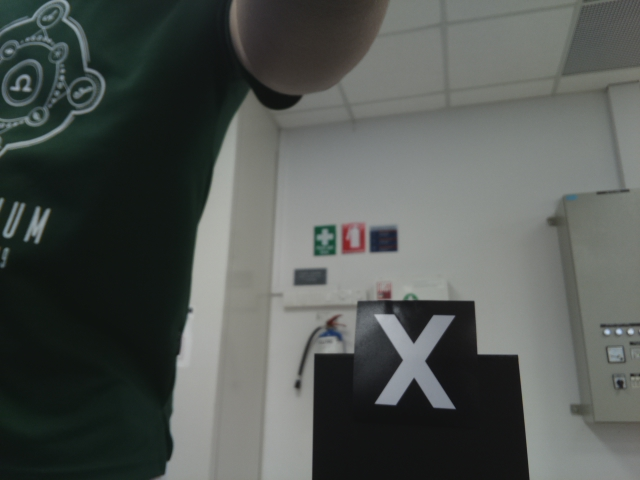x: (363, 308, 464, 412)
